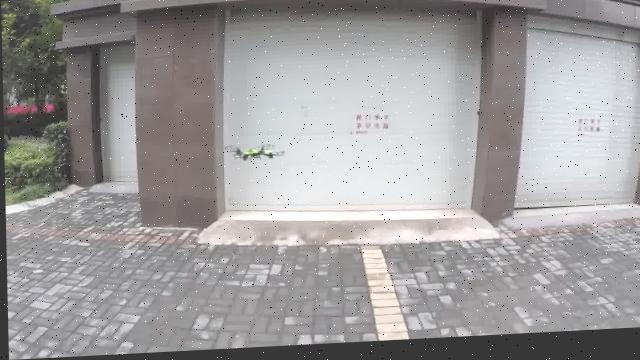drone: (220, 140, 290, 170)
